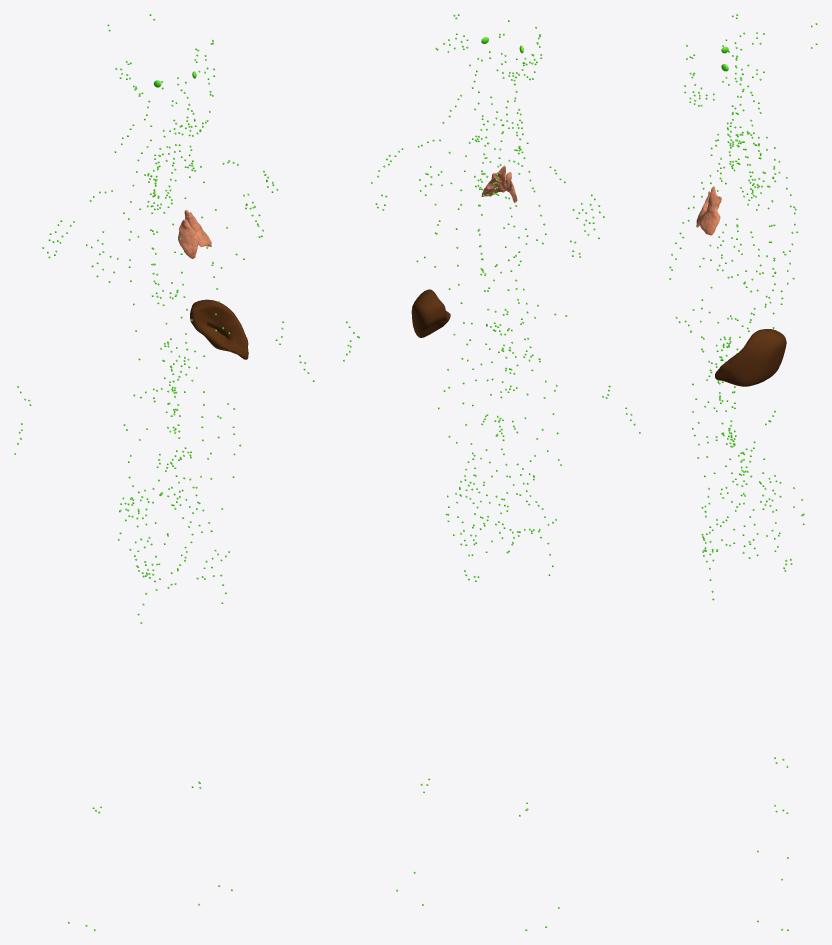
The model's file is lymphoid-organs.glb.
3 renders of one model, left to right at view 1: azimuth 30°, elevation 25°; view 2: azimuth 150°, elevation 25°; view 3: azimuth 270°, elevation 25°, orthographic.
Parts seen in each view (by area): view 1: Spleen · Web; view 2: Spleen · Web; view 3: Spleen · Web, Left lobe of thymus · Web.
Boxes of the visible parts, x1,y1,x2,y2 form: Spleen · Web: (190, 299, 248, 359); Spleen · Web: (411, 289, 450, 337); Spleen · Web: (715, 329, 786, 386); Left lobe of thymus · Web: (699, 186, 721, 235).
Size of the model in its own units: 0.4523 by 1.28 by 0.1963.
